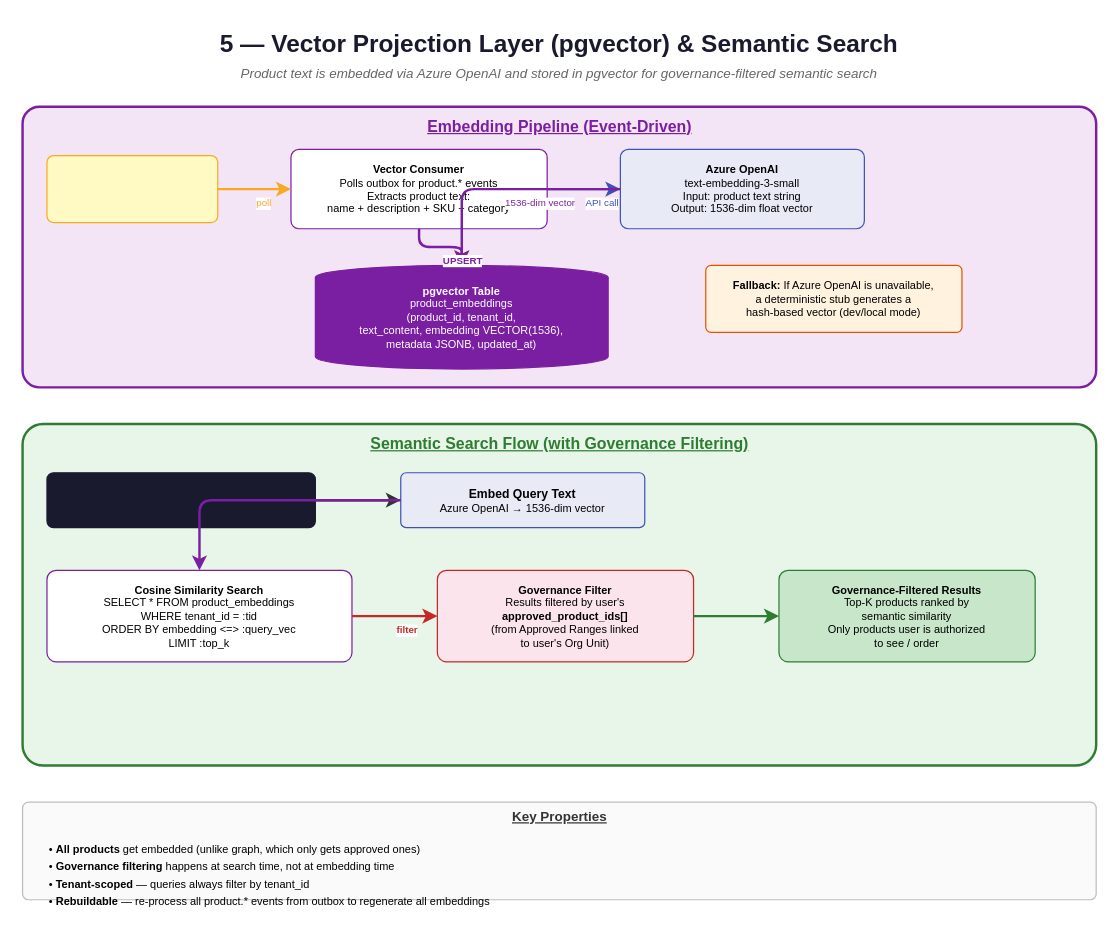
Some shapes in this 1118 by 931 pixel diagram are drawn without their labels. Each missing label, with the centre of its shape:
Outbox Event product.created product.updated: [132,188]
User Search: "blue disposable gloves": [180,500]
